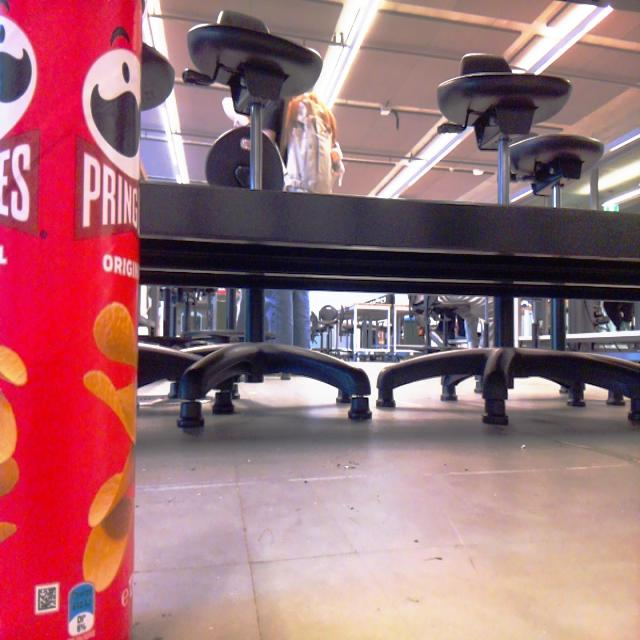redpringles: (0, 0, 150, 640)
